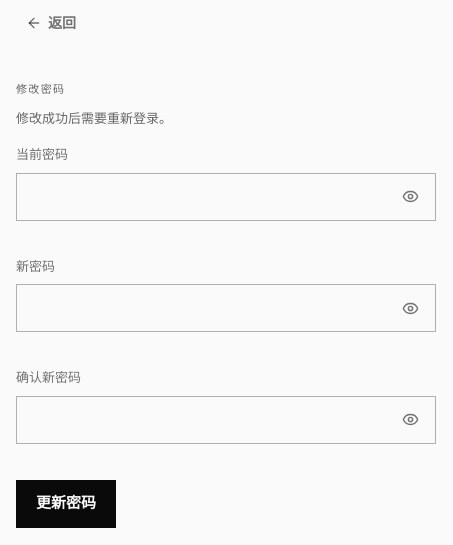
Test case: SettingsPasswordPage › maps code 40105 to the current-password field
The width and height of the screenshot is (453, 545).
Step 1. Type "OldPass123" into the password field labelled "当前密码" → (226, 196), box [16,172,436,220]
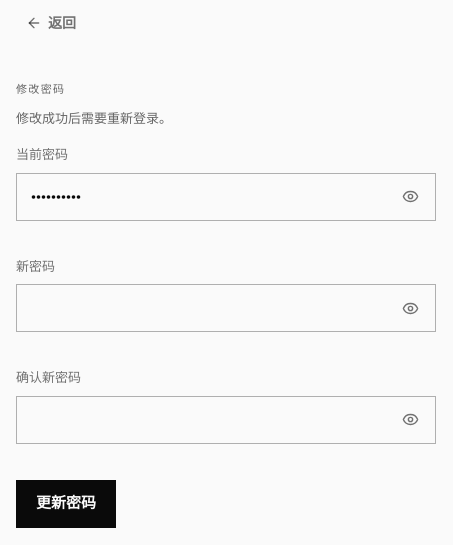
Step 2. Type "NewPass123" into the password field labelled "新密码" → (226, 308), box [16,284,436,332]
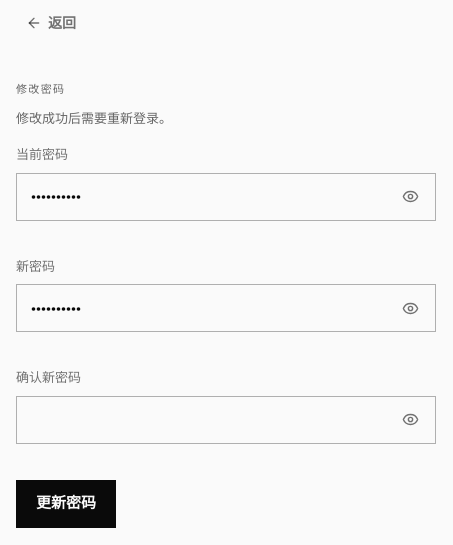
Step 3. Type "NewPass123" into the password field labelled "确认新密码" → (226, 420), box [16,396,436,444]
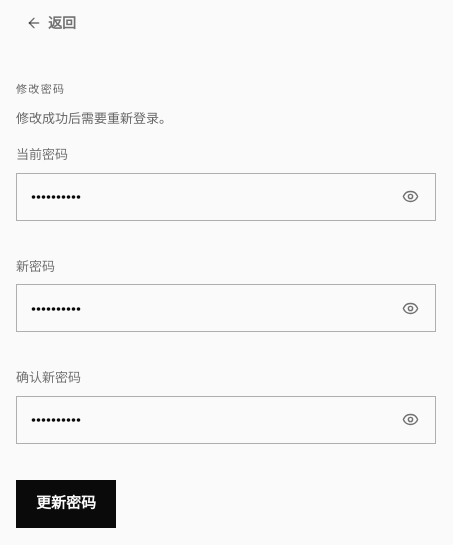
Step 4. Click the button "更新密码" → (66, 504), box [16,480,116,528]
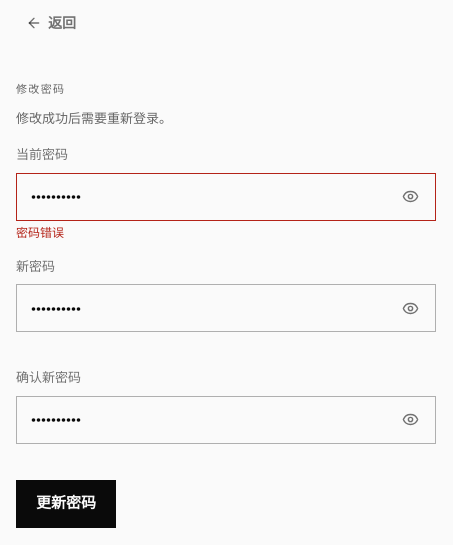
Now the text "密码错误" is shown, box [16,224,64,240]
